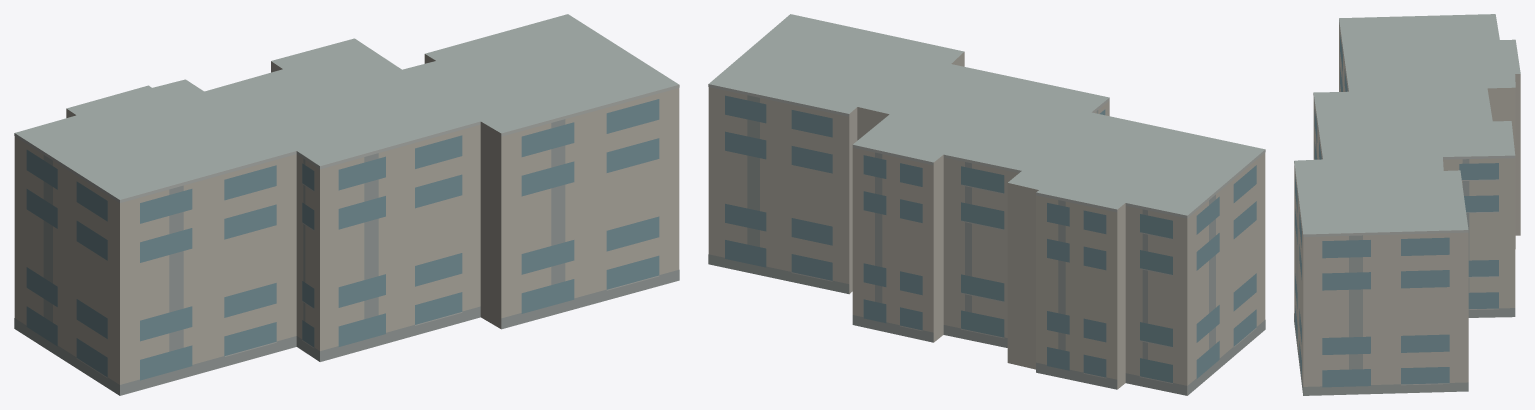
The model's file is survey-upis-32895526.glb.
3 renders of one model, left to right at view 1: azimuth 30°, elevation 25°; view 2: azimuth 150°, elevation 25°; view 3: azimuth 270°, elevation 25°, orthographic. The views are drawn at different scales.
Parts seen in each view (by area): view 1: survey-upis-32895526.tmp; view 2: survey-upis-32895526.tmp; view 3: survey-upis-32895526.tmp.
Part boxes in pixels (x1,y1,x2,y2): survey-upis-32895526.tmp: [14, 14, 679, 395]; survey-upis-32895526.tmp: [708, 14, 1265, 395]; survey-upis-32895526.tmp: [1294, 14, 1520, 395].
Bounding box in the file's own units: 44.68 × 15.25 × 19.41.
